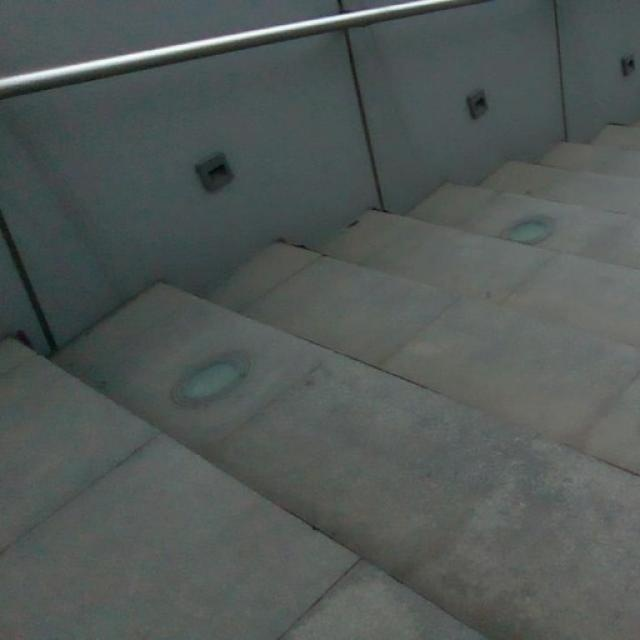stair: (126, 139, 640, 609)
